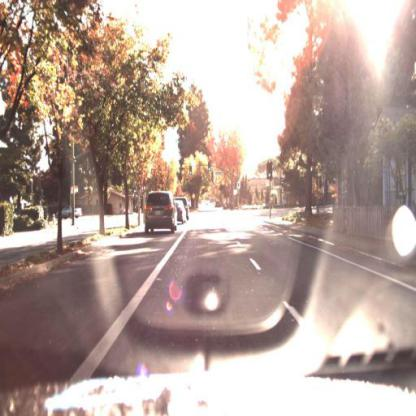car: (143, 188, 177, 239), (57, 201, 84, 220), (60, 204, 83, 220), (175, 198, 186, 228), (178, 199, 187, 226), (185, 199, 192, 224)
trafficLight: (266, 162, 274, 183)
trafficLight-Green: (268, 164, 274, 182), (208, 159, 213, 175), (189, 167, 194, 181), (208, 161, 213, 174), (133, 187, 138, 199)
trafficLight-GreenLeft: (189, 167, 195, 178)
